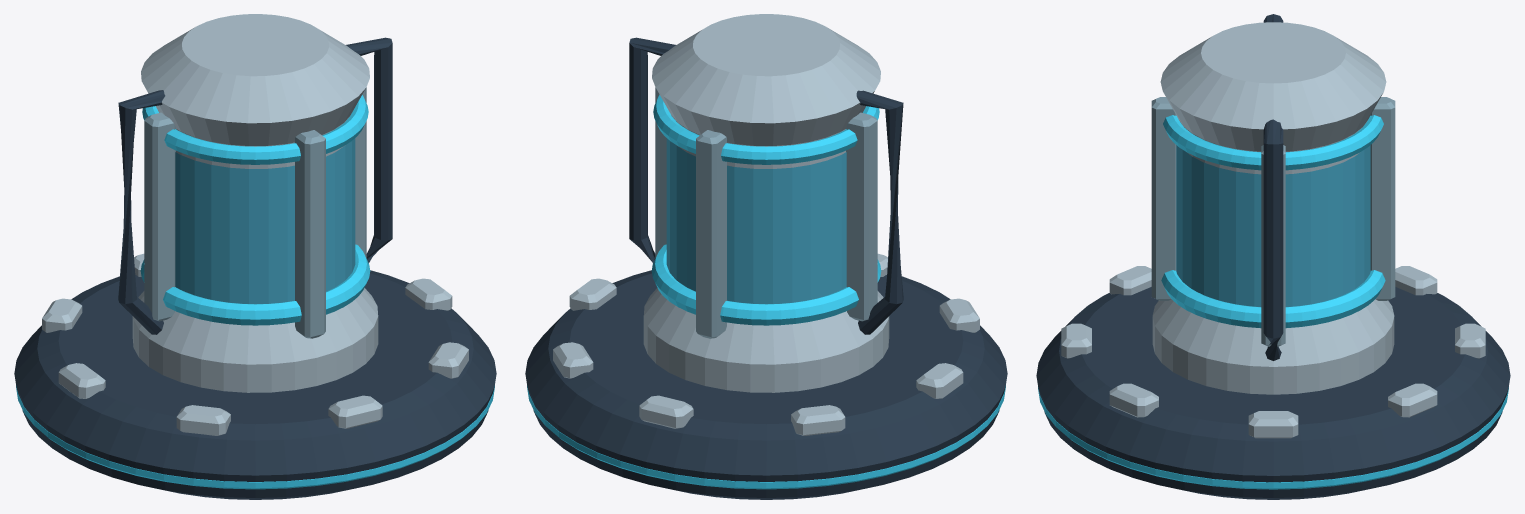
File: corrosion.obj
The picture shows the model from 3 angles, left to right: view 1: azimuth 30°, elevation 25°; view 2: azimuth 150°, elevation 25°; view 3: azimuth 270°, elevation 25°; orthographic projection.
Visible parts, largest first — view 1: corrosion; view 2: corrosion; view 3: corrosion.
Boxes of the visible parts, x1,y1,x2,y2 form: corrosion: [14, 14, 496, 499]; corrosion: [525, 14, 1007, 499]; corrosion: [1036, 14, 1510, 499].
Bounding box in the file's own units: 0.294 × 0.25 × 0.294.
